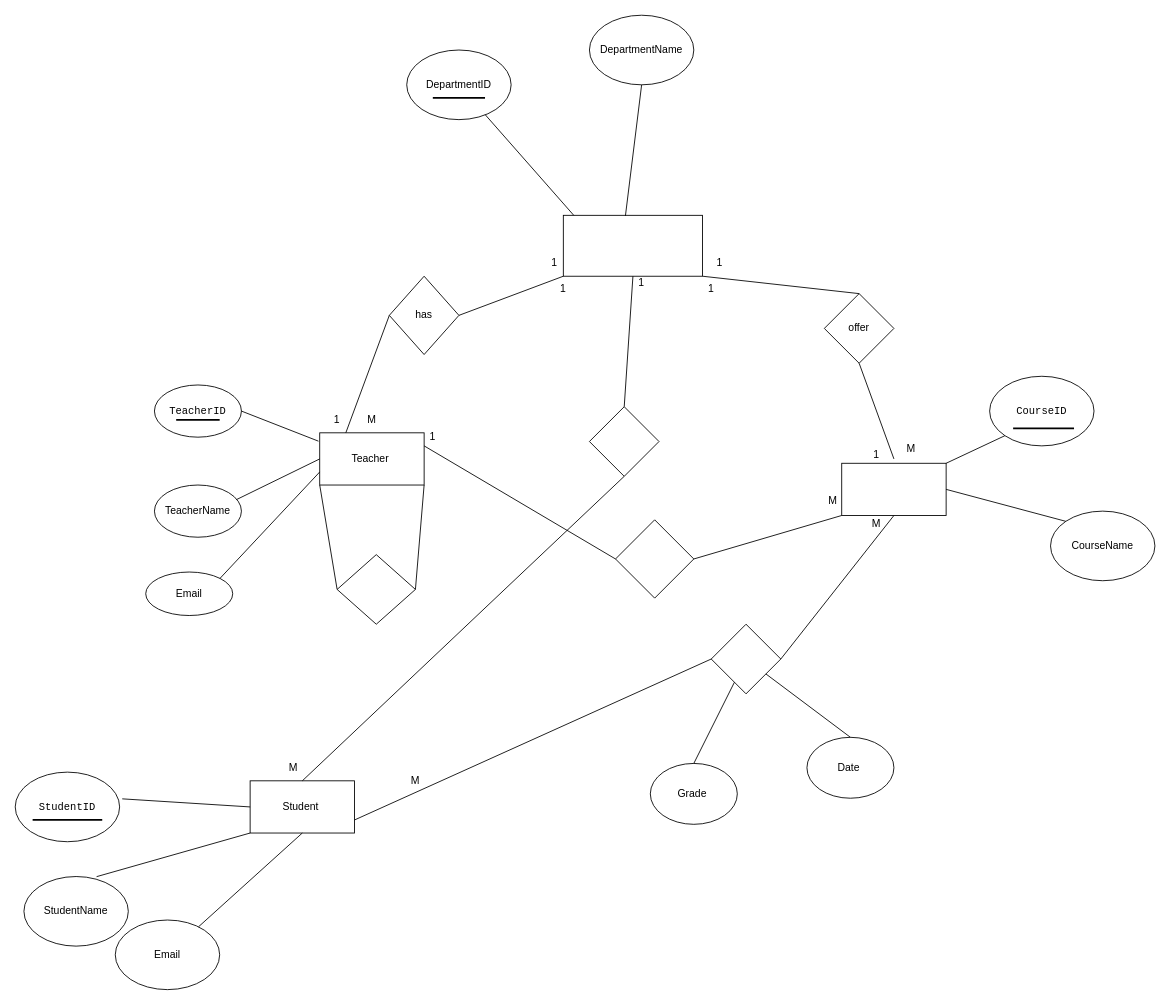
The diagram is 1170 pixels wide and 1005 high, and some of its shapes have lost their labels. The shapes that lost their labels are listed below. From the top down, each one's centre as x and y in pixels, then its label:
point 632,245: Department
point 624,441: belong
point 893,488: Course
point 654,558: teache
point 375,589: supervise
point 745,658: enroll
